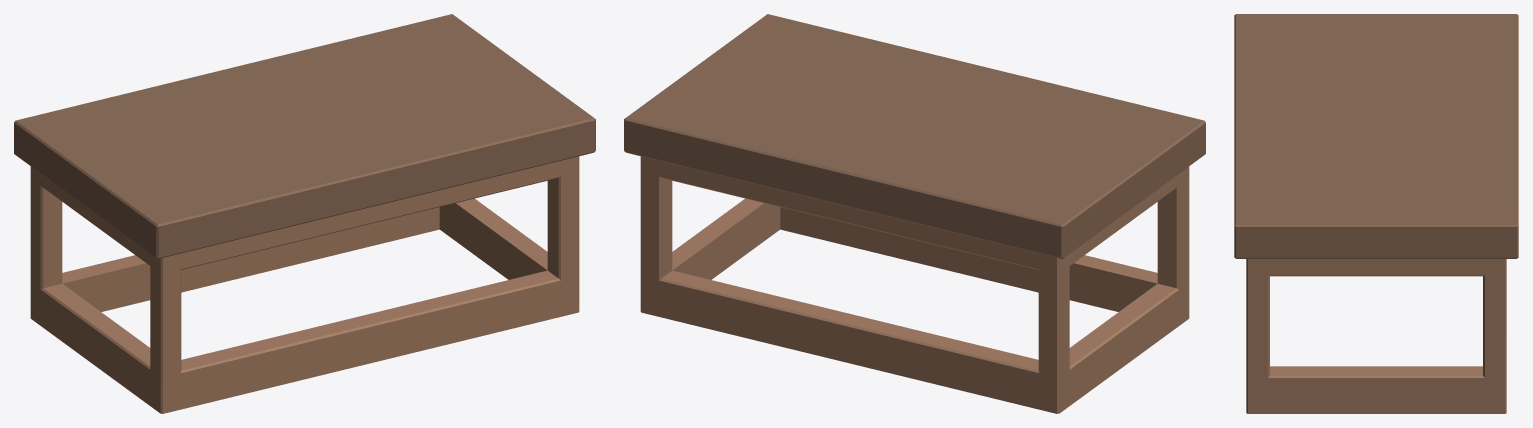
Rendered from Tavolino.fbx.
3 renders of one model, left to right at view 1: azimuth 30°, elevation 25°; view 2: azimuth 150°, elevation 25°; view 3: azimuth 270°, elevation 25°, orthographic.
Parts seen in each view (by area): view 1: Tavolino; view 2: Tavolino; view 3: Tavolino.
Boxes of the visible parts, x1,y1,x2,y2 form: Tavolino: (14,14,595,413); Tavolino: (624,14,1205,413); Tavolino: (1234,14,1518,413).
Bounding box in the file's own units: 1 × 0.4254 × 0.5667.
